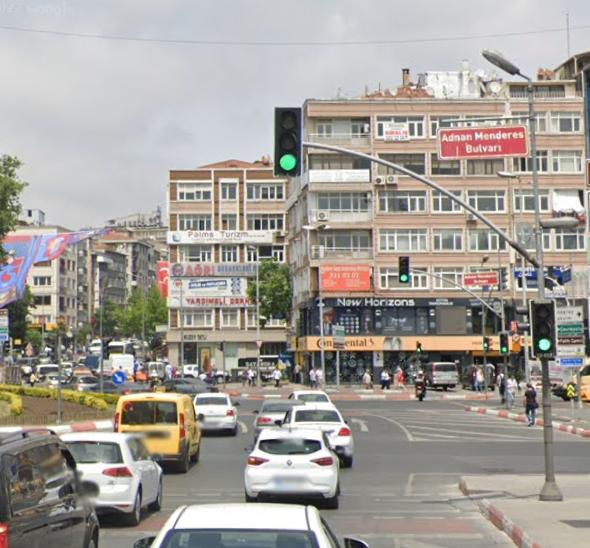greenlight: (274, 106, 302, 175), (529, 298, 558, 360), (398, 256, 410, 283), (498, 333, 510, 355), (483, 338, 489, 352), (417, 341, 422, 355)
